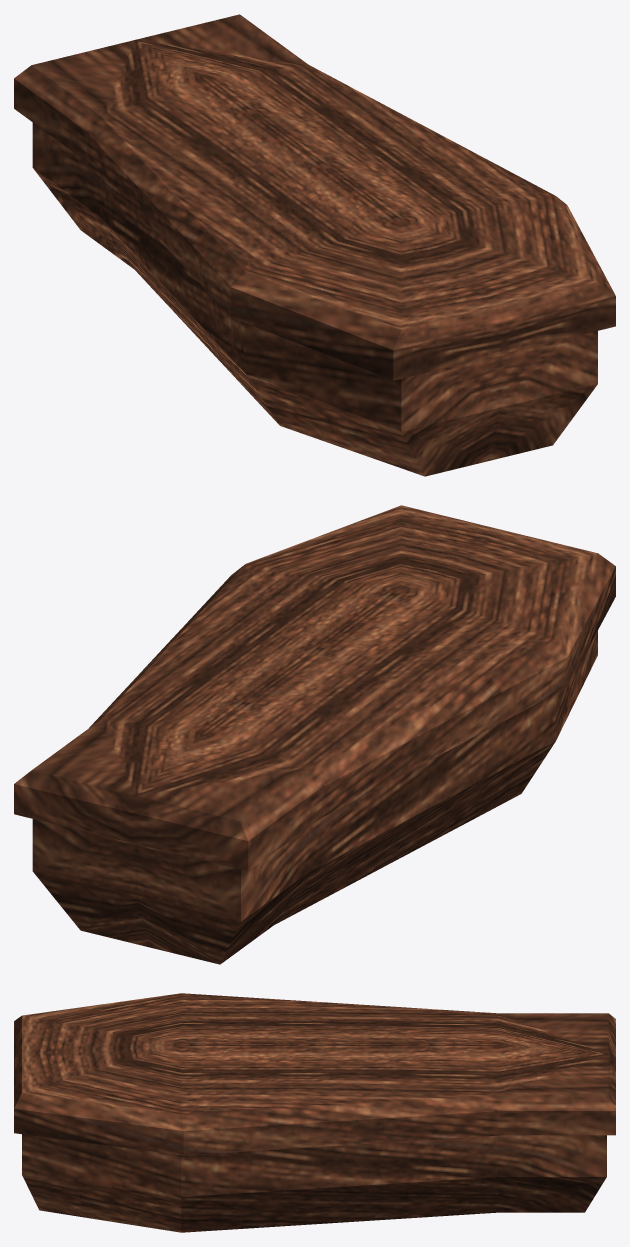
The model's file is casket.glb.
3 views of the same model, one above another, from view 1: azimuth 30°, elevation 25°; view 2: azimuth 150°, elevation 25°; view 3: azimuth 270°, elevation 25° (orthographic). The views are drawn at different scales.
Parts seen in each view (by area): view 1: Casket; view 2: Casket; view 3: Casket.
Boxes of the visible parts, box(x1,y1,x2,y2) form: Casket: box(14, 14, 615, 476); Casket: box(14, 505, 615, 964); Casket: box(14, 993, 615, 1232).
Bounding box in the file's own units: 2.2 × 1.09 × 4.23.
1 material, 1 textured.
